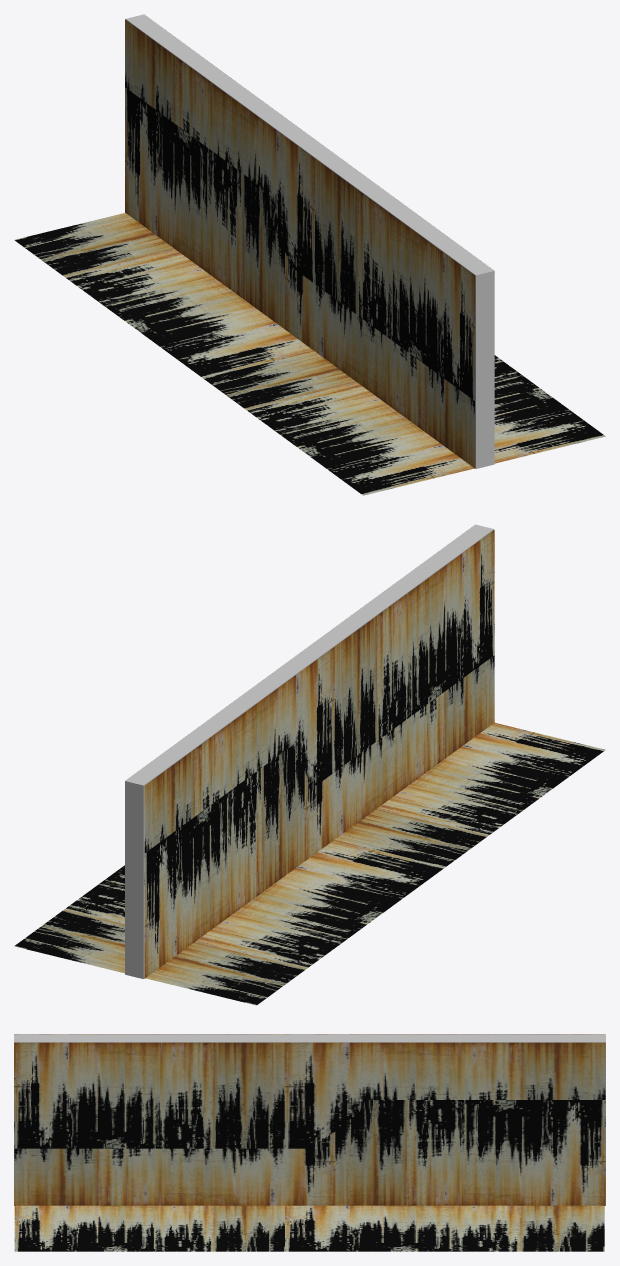
File: TiledBrick14.FBX
3 views of the same model, one above another, from view 1: azimuth 30°, elevation 25°; view 2: azimuth 150°, elevation 25°; view 3: azimuth 270°, elevation 25° (orthographic). The views are drawn at different scales.
Visible parts, largest first — view 1: TiledBrick14; view 2: TiledBrick14; view 3: TiledBrick14.
Part boxes in pixels (x1,y1,x2,y2): TiledBrick14: (14, 14, 605, 495); TiledBrick14: (14, 524, 605, 1005); TiledBrick14: (14, 1034, 605, 1251).
Size of the model in its own units: 264 by 202 by 661.
